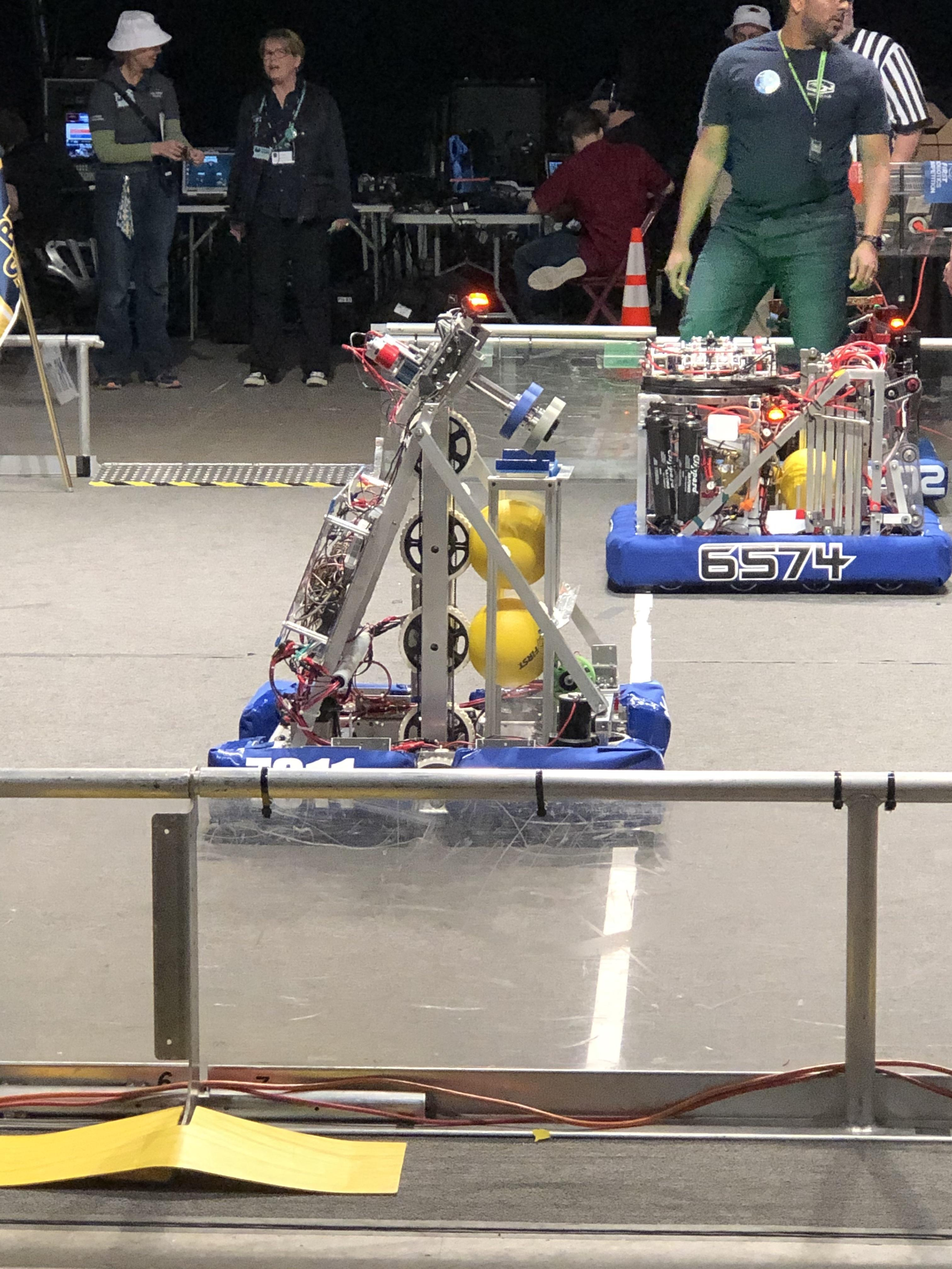robot: (208, 290, 680, 845), (604, 329, 951, 600), (872, 334, 949, 505)
